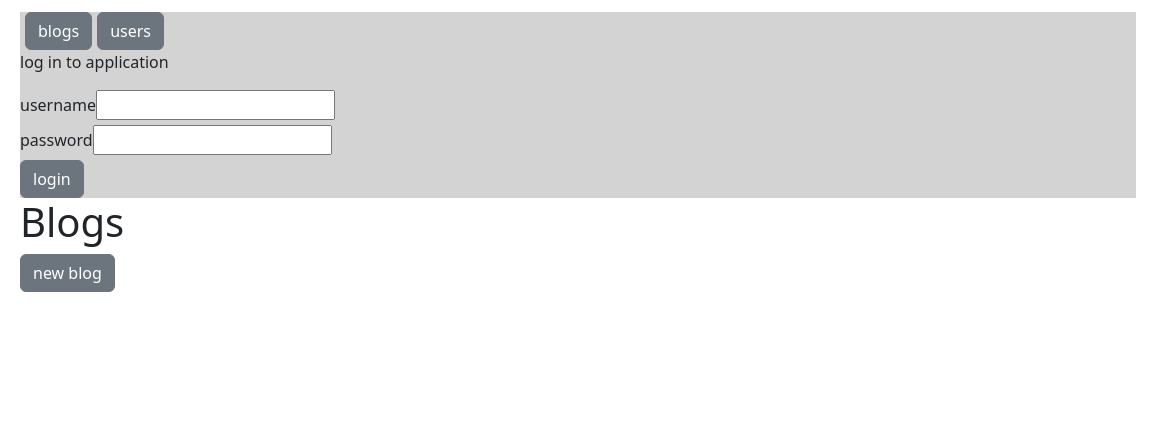
Test: Blog app › Login › fails with wrong credentials
Type "tester" into the field with id "username".
click(216, 105); type("tester")  # box [96,90,335,120]
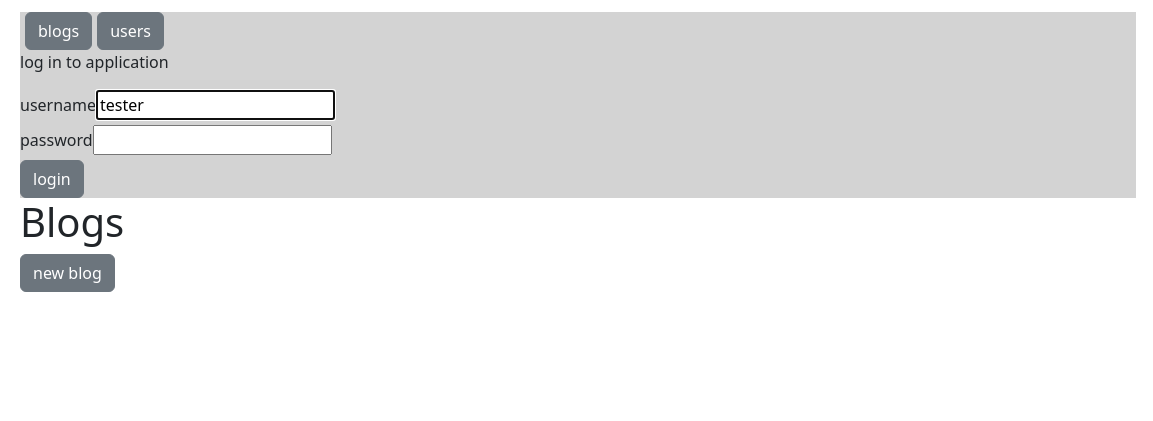
Type "väärä" into the password field.
click(213, 140); type("väärä")  # box [93,125,332,155]
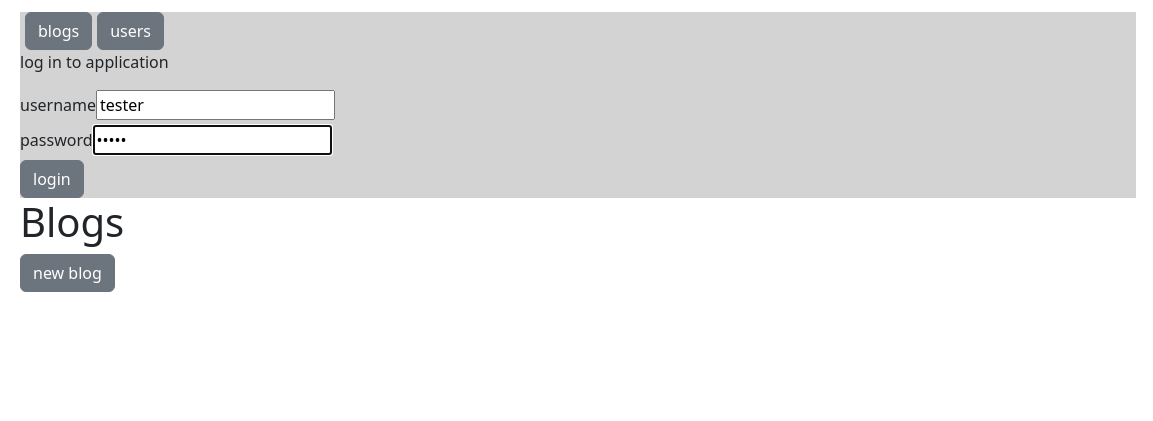
Click the button with id "login-button".
click(52, 179)  # box [20,160,84,198]
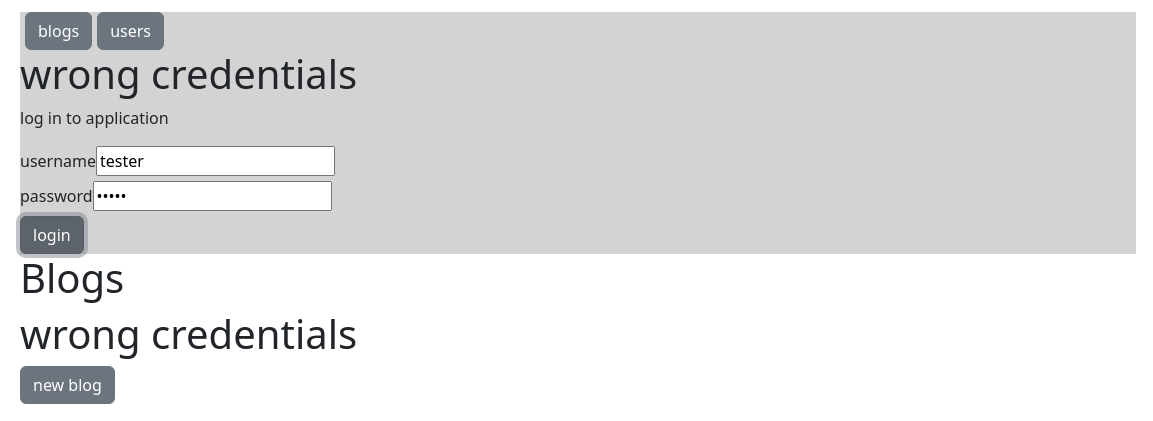
Check: the 1st heading "wrong credentials" is shown, box [20,46,357,101]
